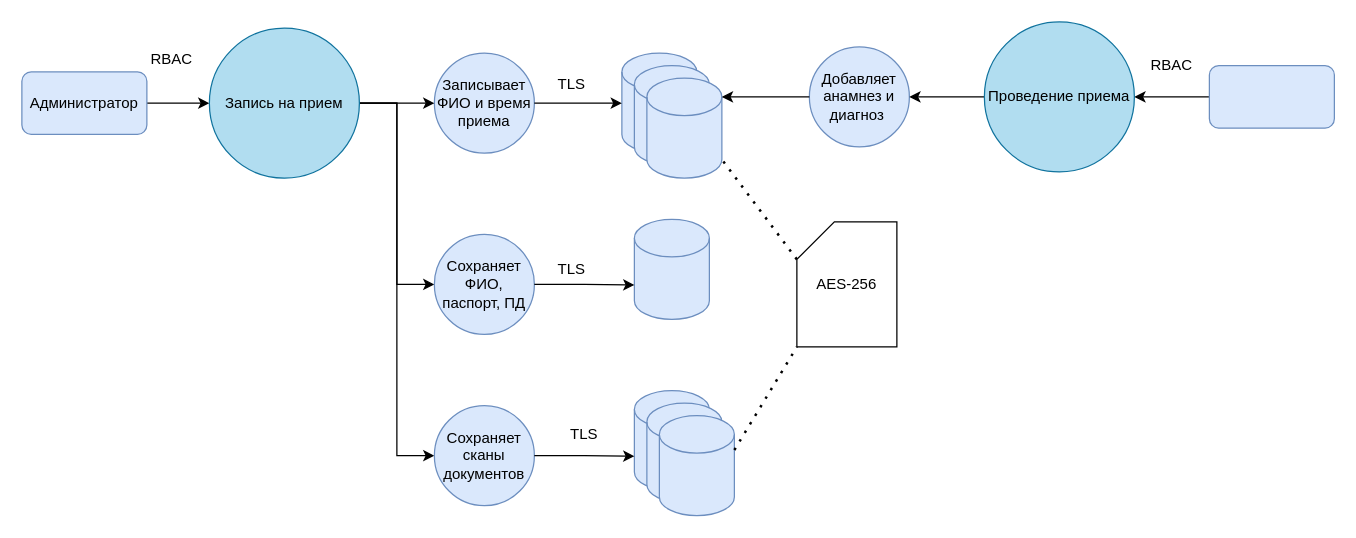
The diagram is 1356 pixels wide and 538 high, and some of its shapes have lost their labels. The centre of each missing label's shape, as x and y in pixels:
Excel журнал врача: the point at 684,127
Excel список пациентов: the point at 671,268
Врач: the point at 1271,96
Файлы пациента: the point at 696,465
